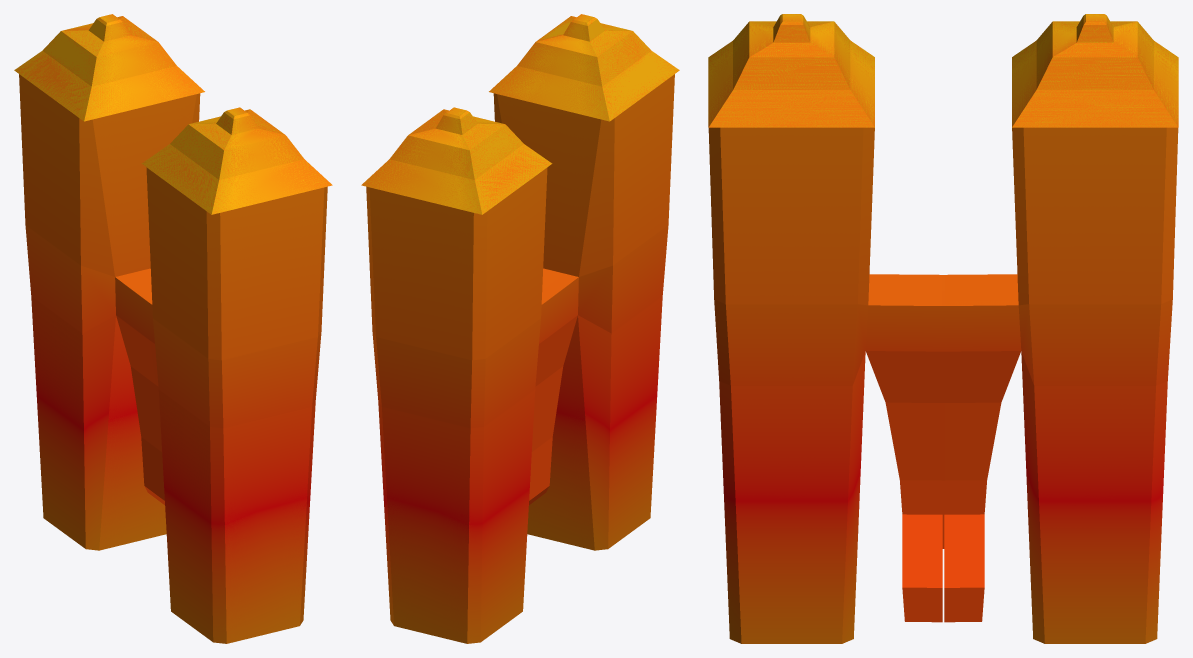
File: jetpack.glb
3 renders of one model, left to right at view 1: azimuth 30°, elevation 25°; view 2: azimuth 150°, elevation 25°; view 3: azimuth 270°, elevation 25°, orthographic. The views are drawn at different scales.
Visible parts, largest first — view 1: Cube; view 2: Cube; view 3: Cube.
Part boxes in pixels (x1=…): Cube: x1=14, y1=14, x2=332, y2=643; Cube: x1=361, y1=14, x2=679, y2=643; Cube: x1=708, y1=14, x2=1178, y2=643.
Bounding box in the file's own units: 0.8861 × 3.52 × 2.5.
Materials: 1 (1 with a texture image).
